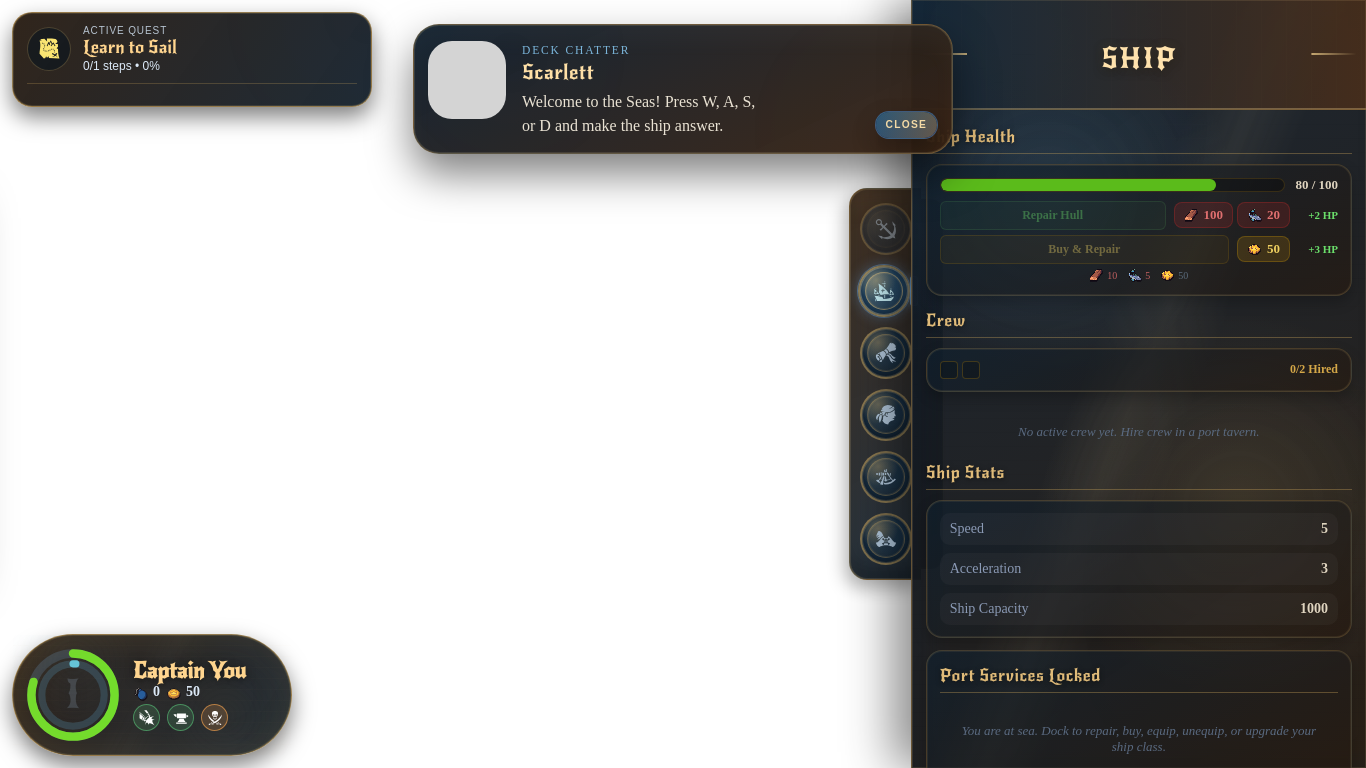
Test: App › stores dismissed NPC messages in the ship log
Step 1. Click the button named "close message from scarlett" → click(906, 125), box [875,111,938,139]
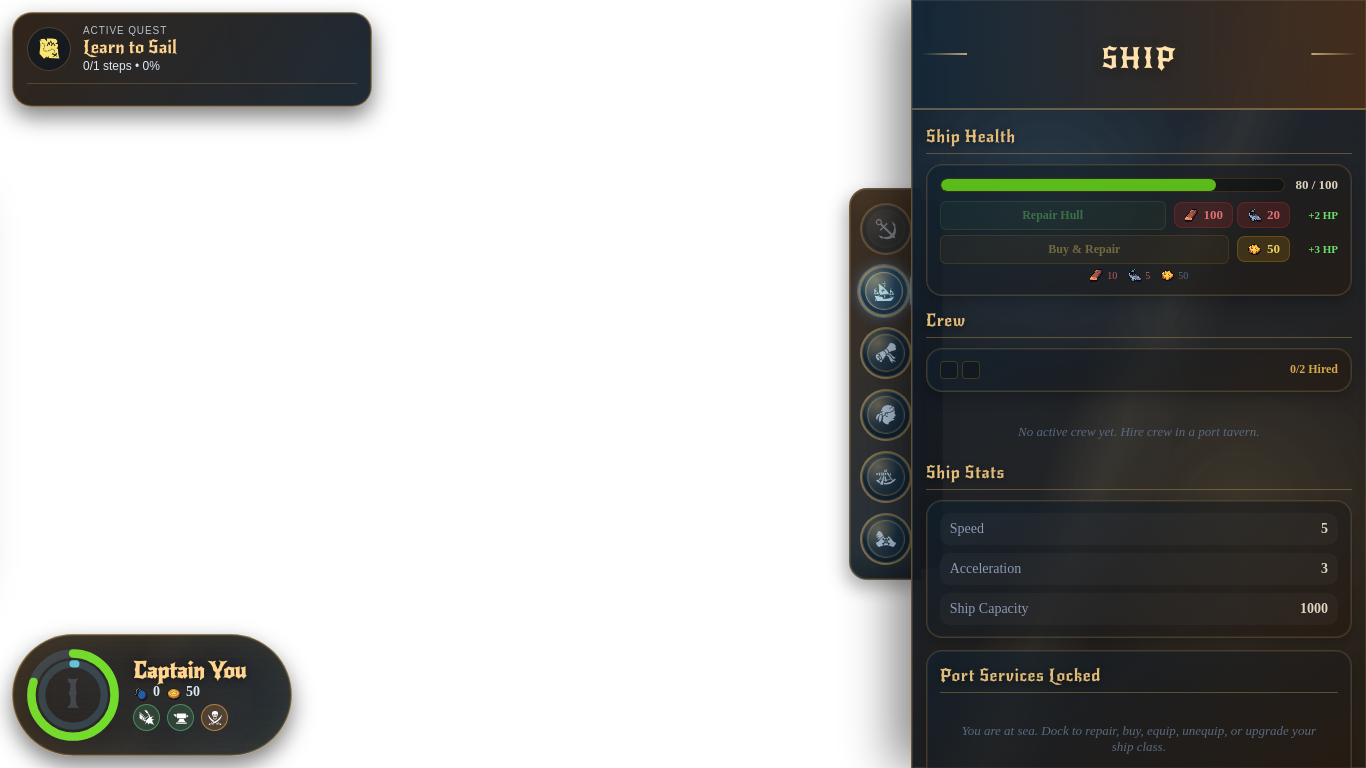
Step 2. Click the tab named "ship log mode" → click(886, 415), box [860,389,912,441]
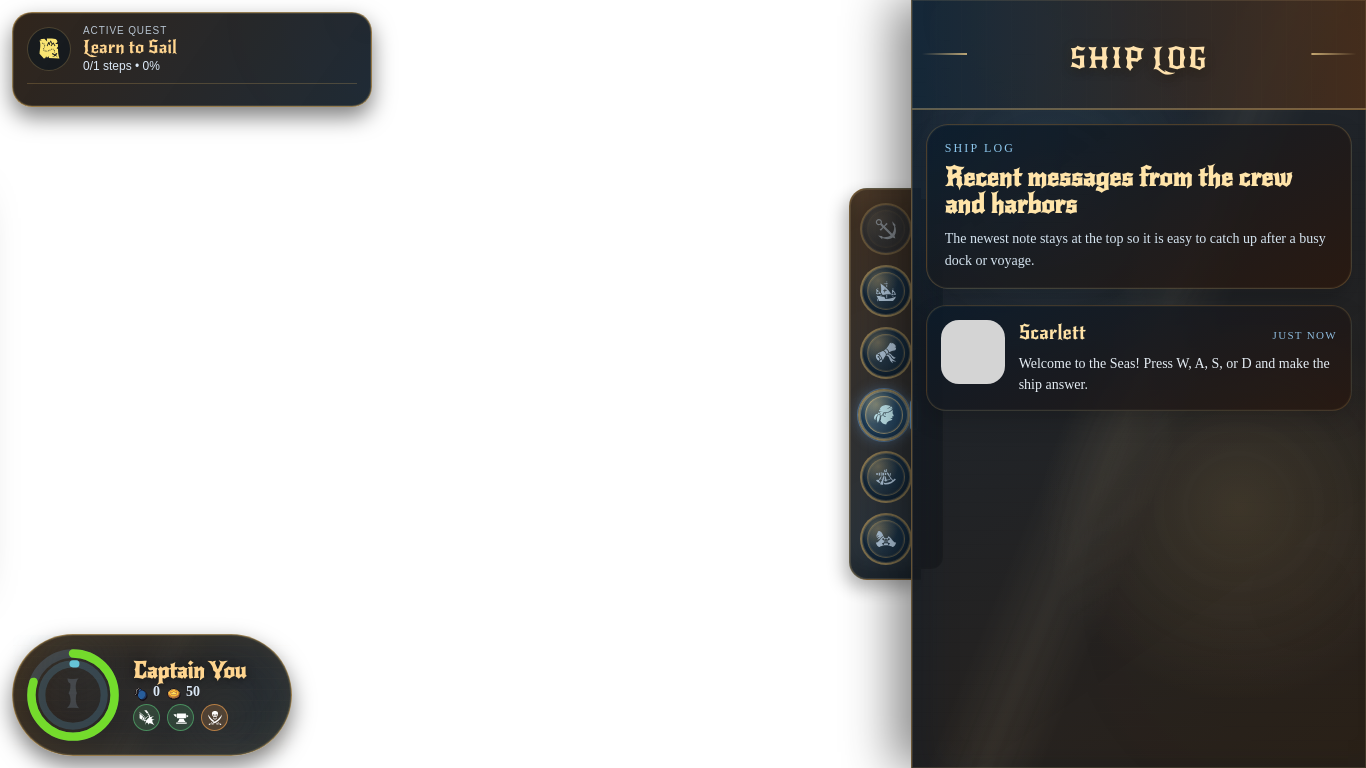
Now the heading "Recent messages from the crew and harbors" is shown, box [945,164,1333,218]
Now the text "Press W, A, S, or D" is shown, box [1019,356,1330,392]
